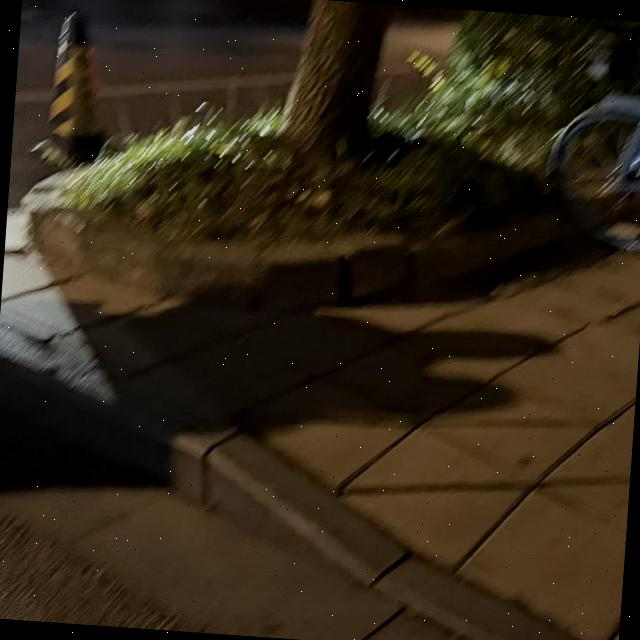curb: (0, 302, 583, 640)
